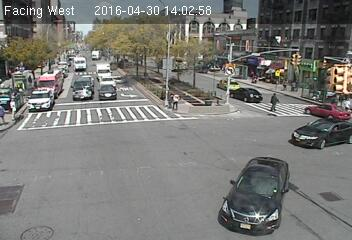neg: (254, 173, 273, 198), (36, 70, 51, 91), (233, 36, 248, 56), (150, 73, 163, 90), (210, 90, 222, 107), (102, 86, 113, 102), (163, 47, 173, 61), (297, 57, 307, 71), (116, 54, 126, 67), (192, 76, 202, 89)
pos: (266, 90, 282, 112), (169, 90, 184, 110), (5, 97, 20, 117), (338, 95, 351, 114), (250, 67, 262, 83)
